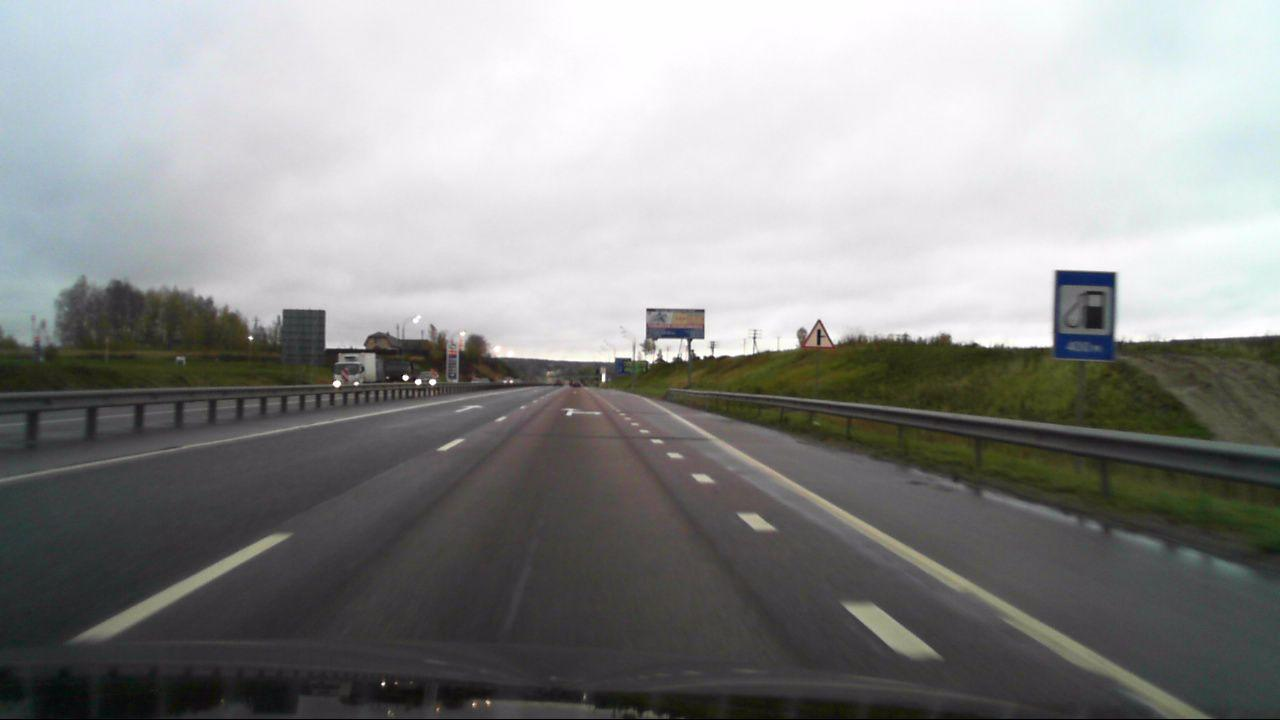2_3_2: (804, 317, 834, 350)
7_3: (1053, 266, 1117, 361)
